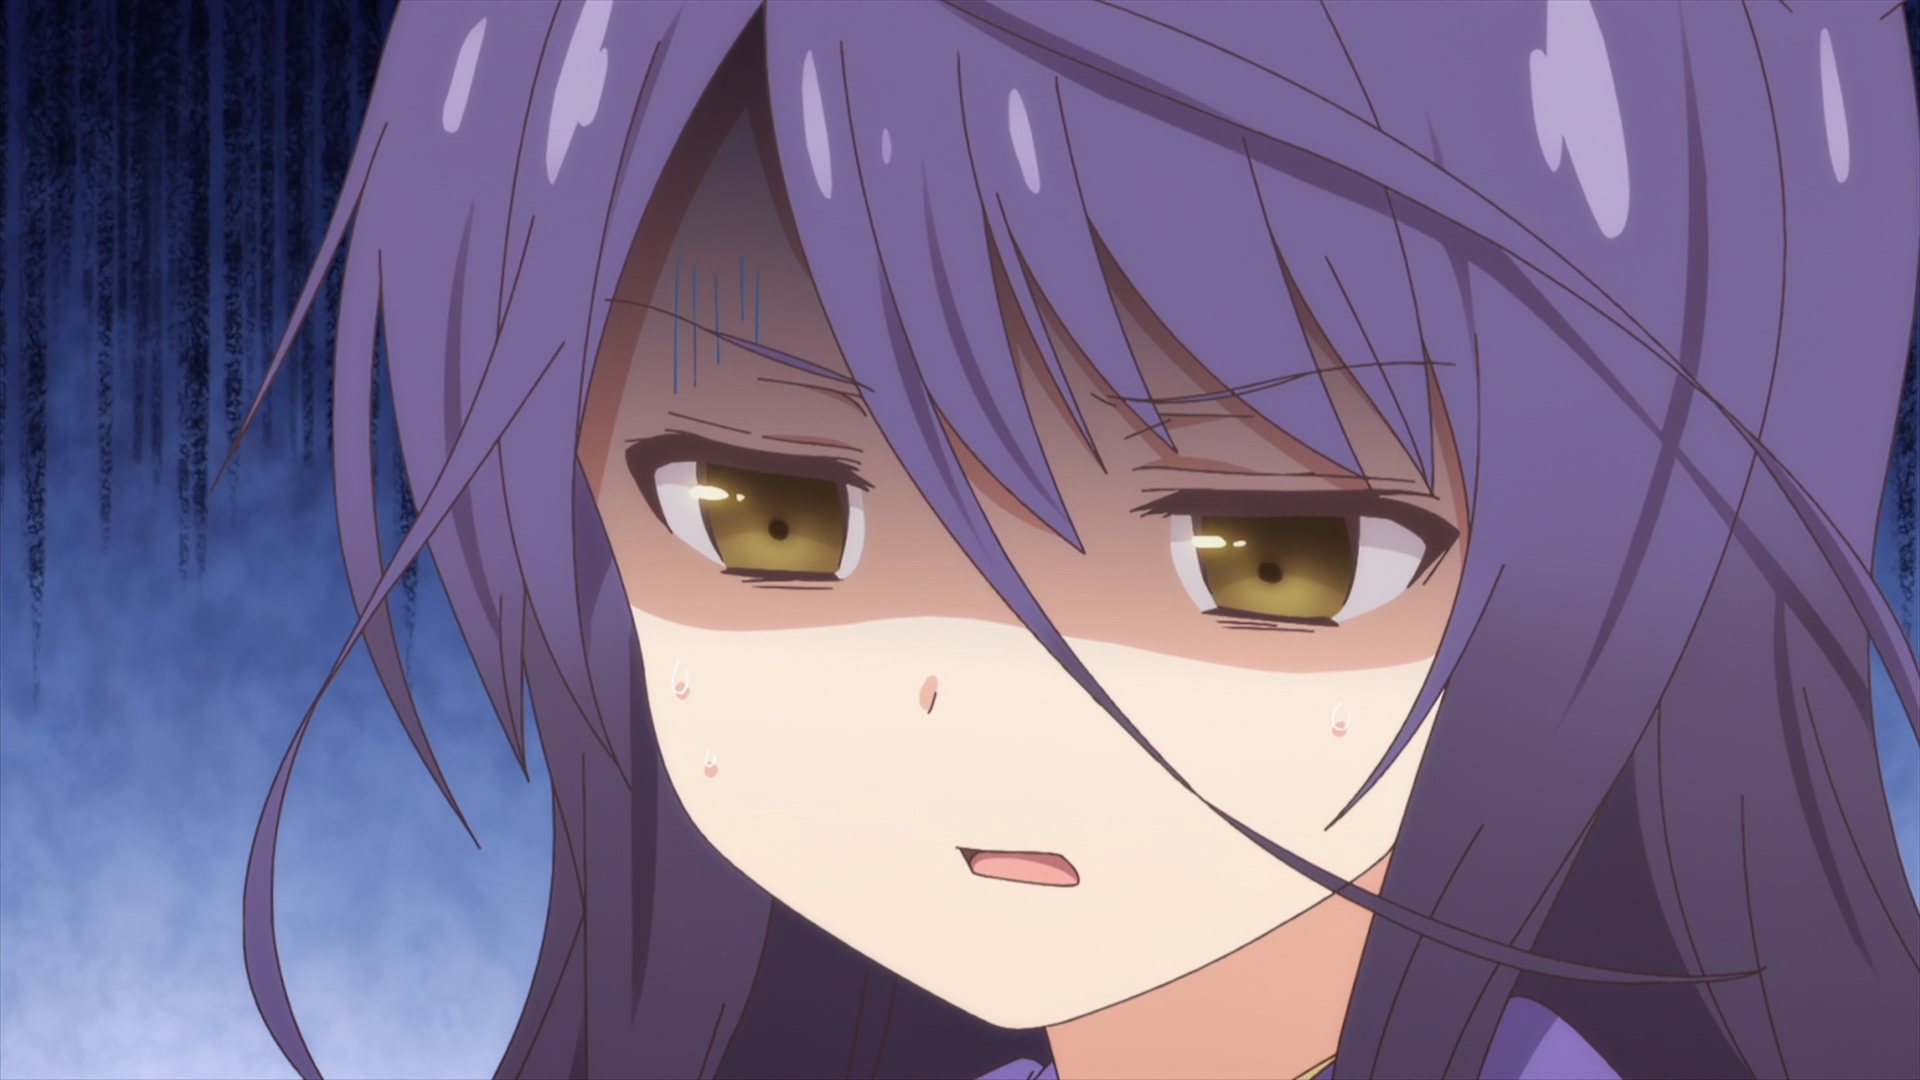皋: (212, 1, 1920, 1080)
